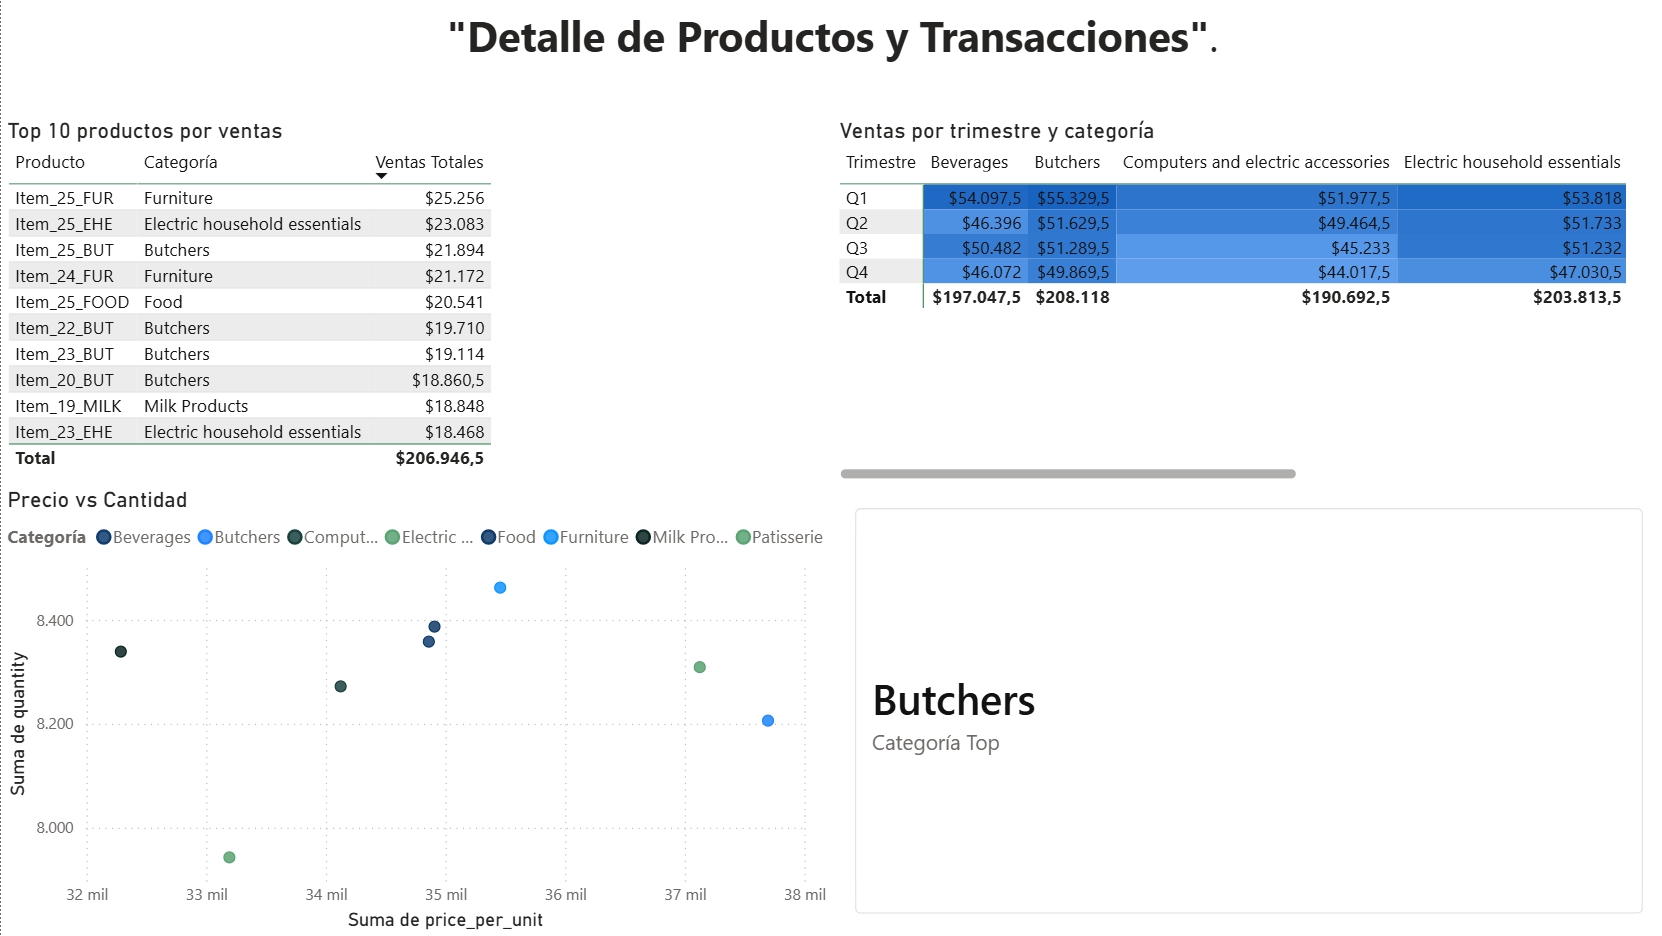

The dashboard page shown, as its layout file describes it:
{"tool":"powerbi","page":{"name":"Detalle de Productos y Clientes","canvas":[1280,720],"ordinal":1},"visuals":[{"type":"tableEx","title":"Top 10 productos por ventas","fields":{"Values":["public clean_sales.item","public clean_sales.category","public clean_sales.Ventas Totales"]},"box":[0,90,640,289.2],"z":0},{"type":"pivotTable","title":"Ventas por trimestre y categoría","fields":{"Rows":["Calendario.Trimestre"],"Columns":["public clean_sales.category"],"Values":["public clean_sales.Ventas Totales"]},"box":[640,90,614.6,283.8],"z":1000},{"type":"scatterChart","title":"Precio vs Cantidad","fields":{"X":["Sum(public clean_sales.price_per_unit)"],"Y":["Sum(public clean_sales.quantity)"],"Series":["public clean_sales.category"]},"box":[0,373.8,640,346.2],"z":2000},{"type":"cardVisual","fields":{"Data":["public clean_sales.Categoría Top"]},"box":[640,373.8,640,346.2],"z":3000},{"type":"textbox","box":[337.7,0,648.5,59.2],"z":4000}]}

Visuals, with their boxes in screenshot pixels (x1, y1, x2, y2), scaled from the page's 1280x720 canvas onto the 1662x936 screenshot:
"Top 10 productos por ventas" tableEx: bbox=[0, 117, 831, 493]
"Ventas por trimestre y categoría" pivotTable: bbox=[831, 117, 1629, 486]
"Precio vs Cantidad" scatterChart: bbox=[0, 486, 831, 935]
cardVisual - public clean_sales.Categoría Top: bbox=[831, 486, 1661, 935]
textbox: bbox=[438, 0, 1281, 77]
